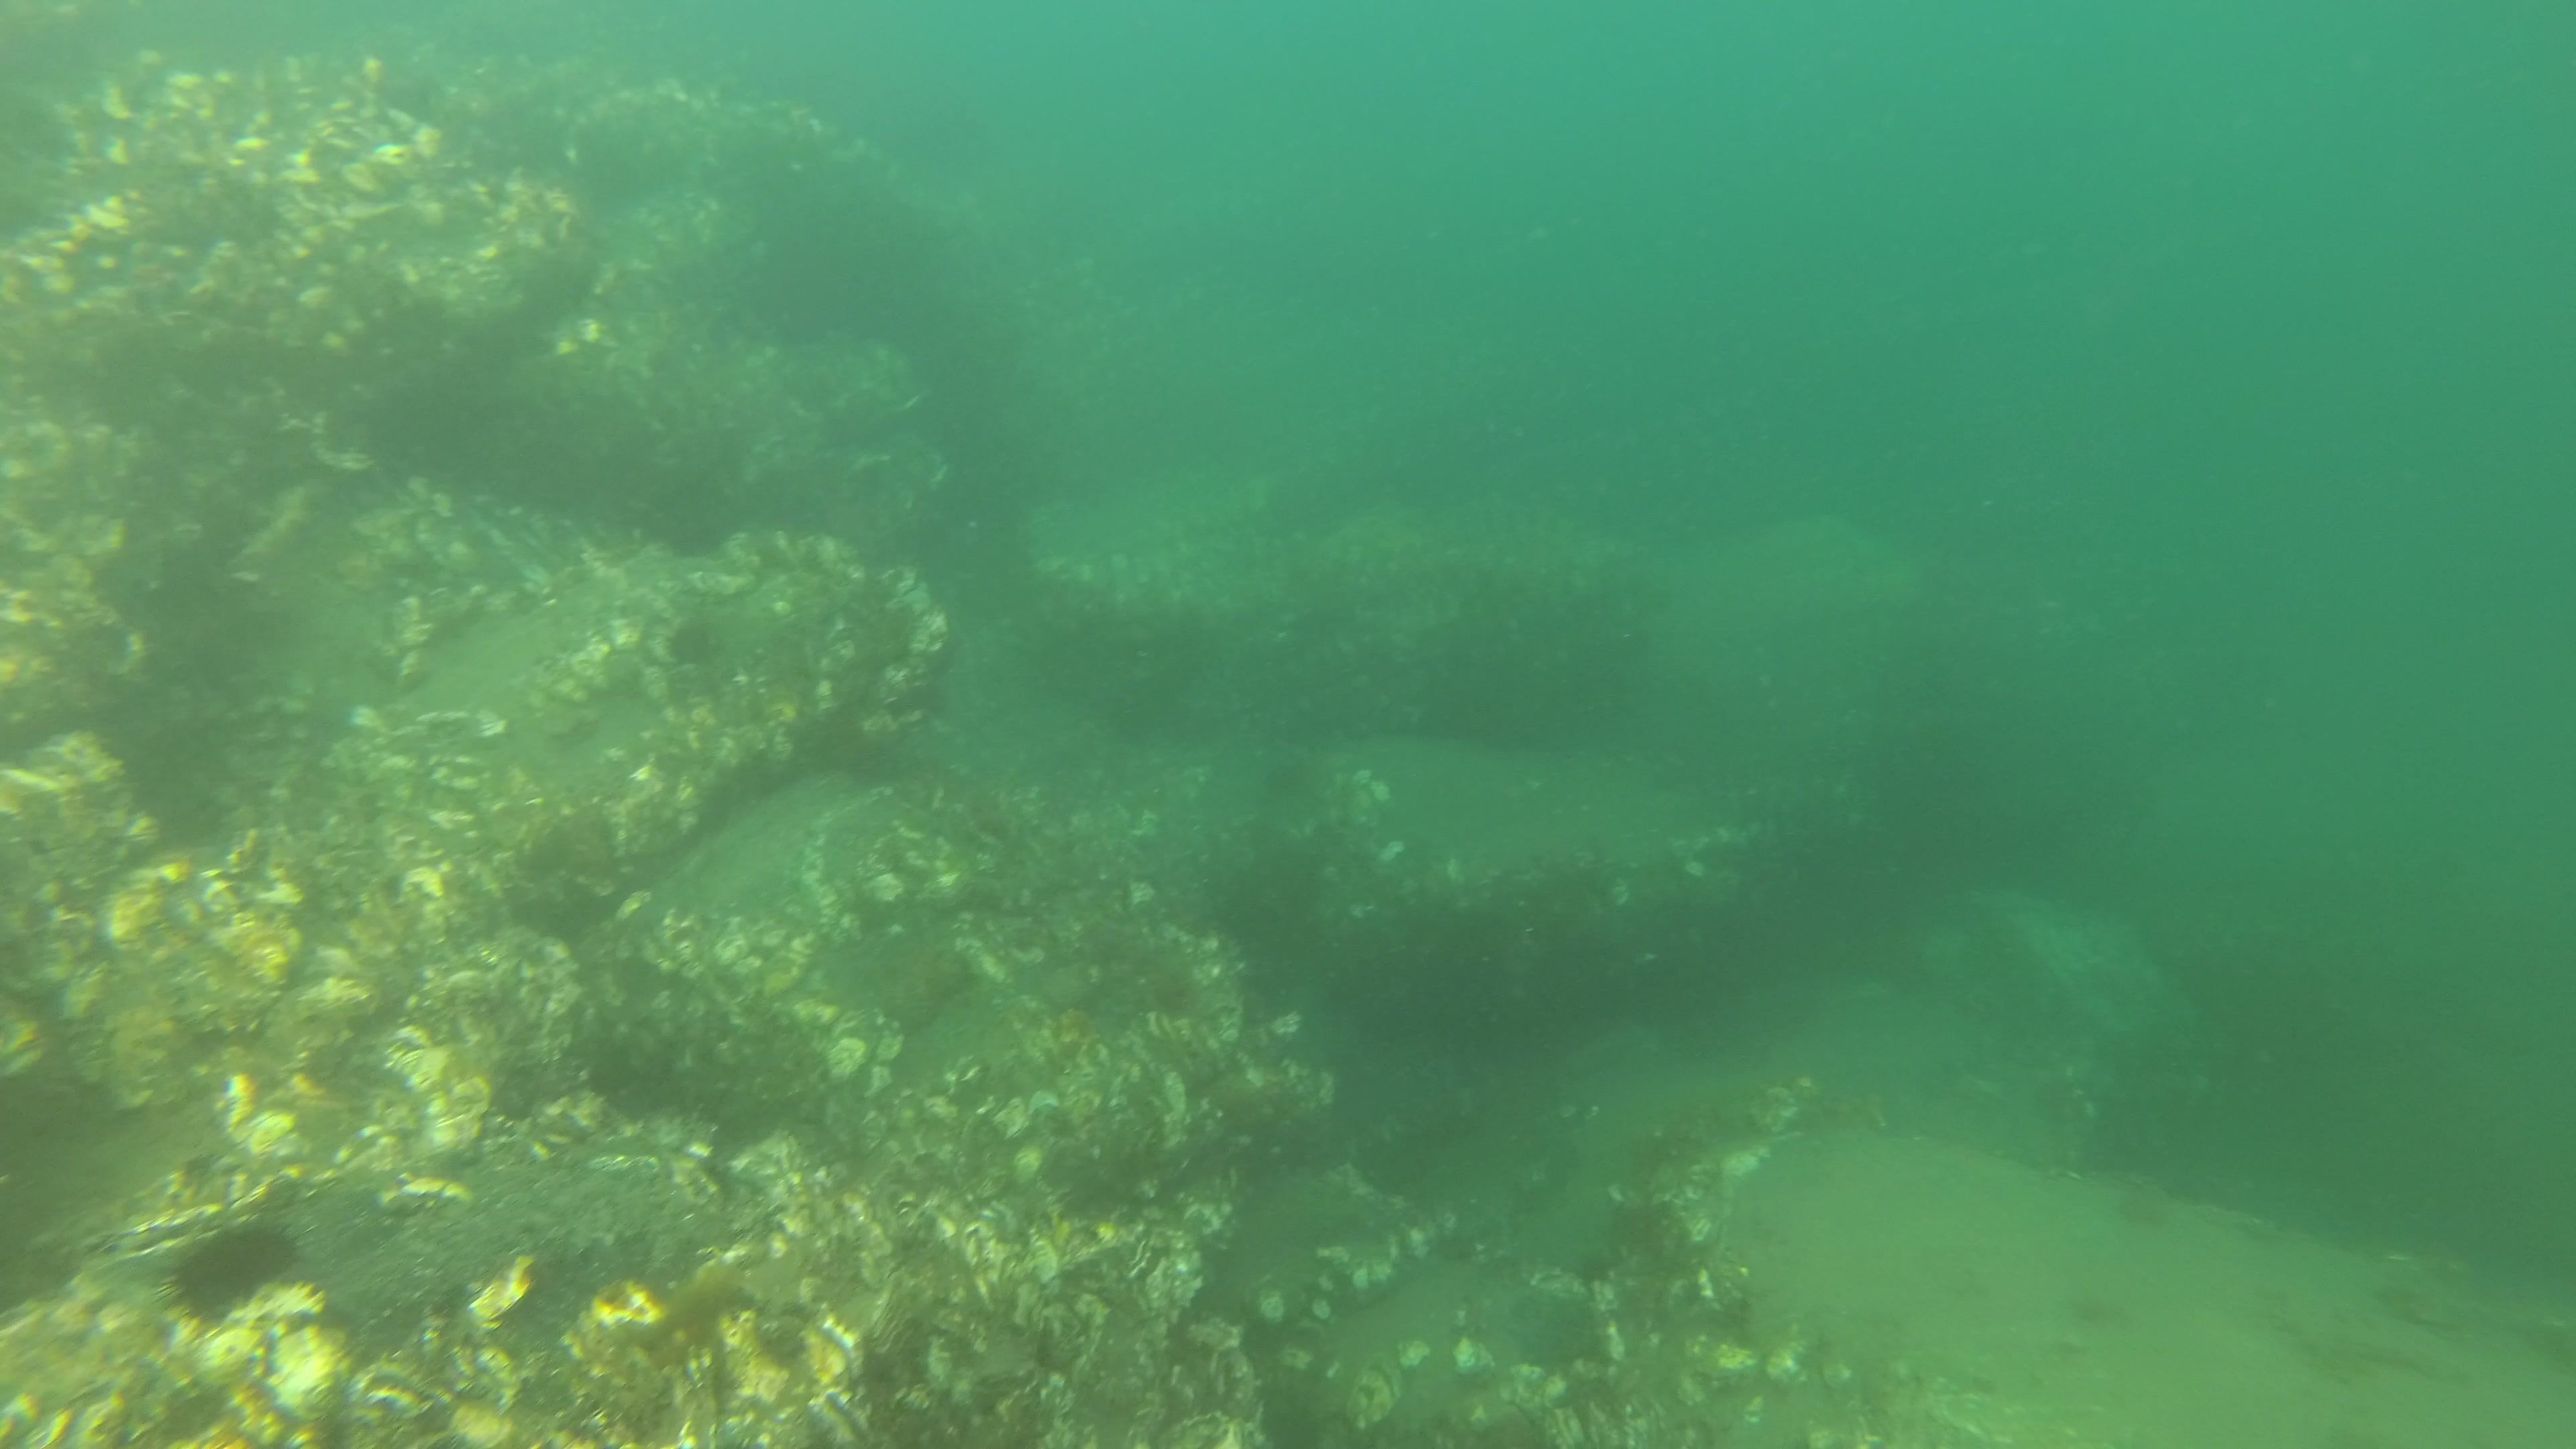echinus: (163, 1215, 317, 1330), (662, 626, 718, 676)
